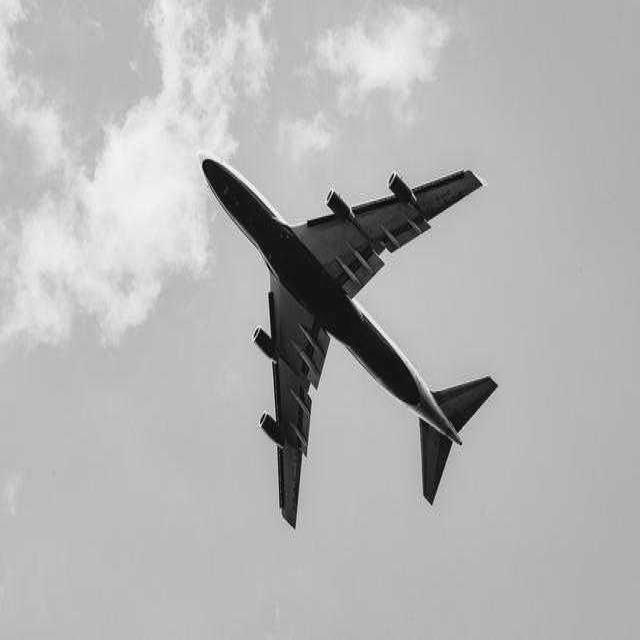Aircraft: (184, 132, 506, 538)
